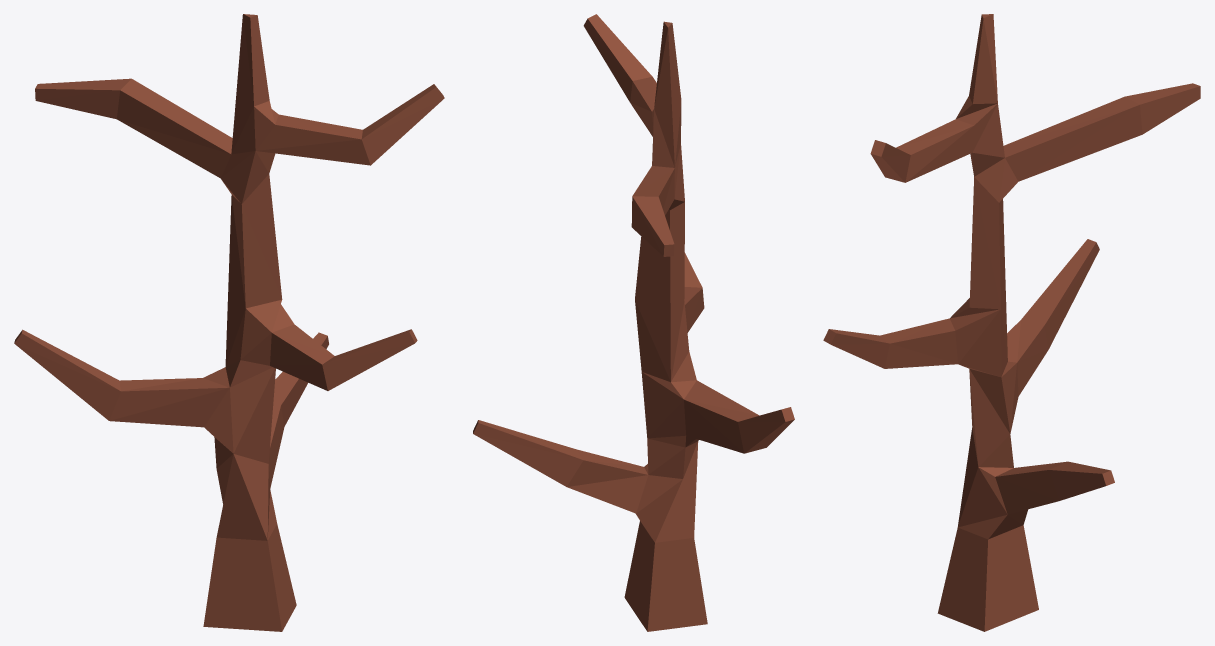
Rendered from treec.glb.
3 views of the same model, side by side, from view 1: azimuth 30°, elevation 25°; view 2: azimuth 150°, elevation 25°; view 3: azimuth 270°, elevation 25° (orthographic). The views are drawn at different scales.
Parts seen in each view (by area): view 1: treec; view 2: treec; view 3: treec.
Part boxes in pixels (x1=…): treec: x1=14, y1=14, x2=444, y2=631; treec: x1=473, y1=14, x2=794, y2=631; treec: x1=823, y1=14, x2=1200, y2=631.
Size of the model in its own units: 2.23 by 3.98 by 2.28.
